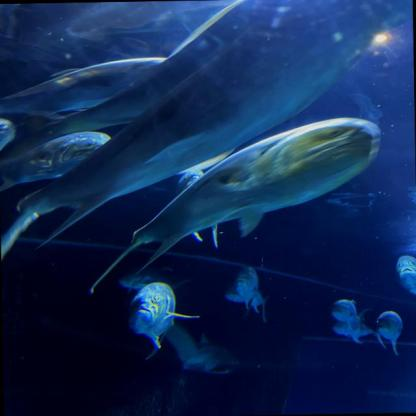fish: (0, 34, 368, 296), (87, 117, 383, 294), (0, 30, 172, 132), (0, 129, 112, 195), (129, 281, 202, 359), (226, 285, 269, 321), (119, 266, 175, 288), (333, 318, 374, 346), (376, 310, 401, 354), (331, 299, 370, 326), (396, 254, 415, 307), (235, 264, 258, 306), (0, 117, 14, 158)
shark: (182, 332, 240, 376)
